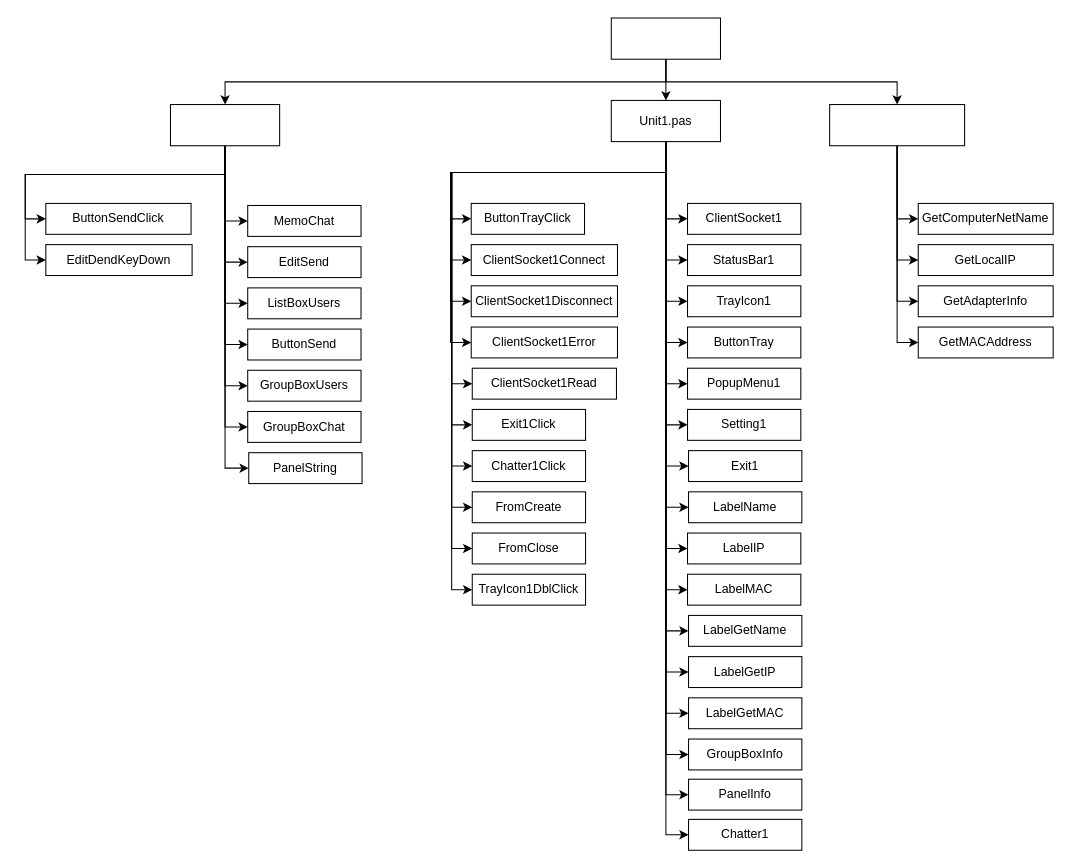
Image size: 1071x868. Some labels were removed from this diagram. The shapes that lost their labels are listed below. From the top down, each one's centre as x and y in pixels, then its label:
the point at 665,38: ANAgent
the point at 224,125: Chatter.pas
the point at 897,125: GetComputerInfo.pas
